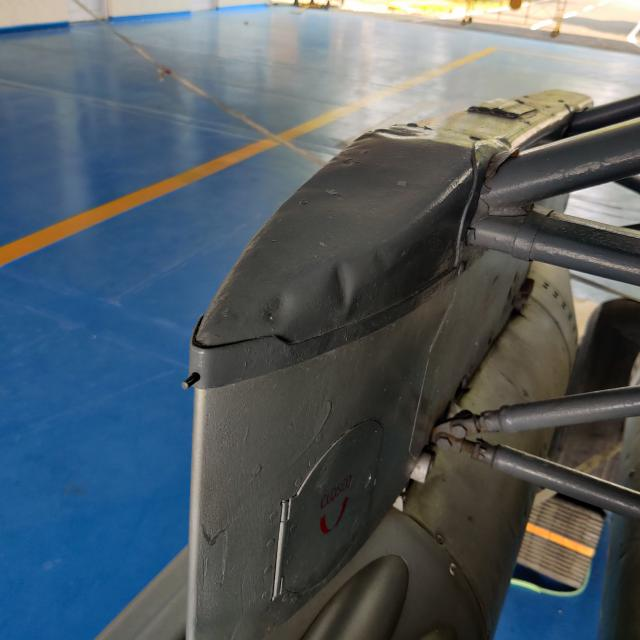dent: (322, 254, 369, 324), (252, 282, 303, 339)
